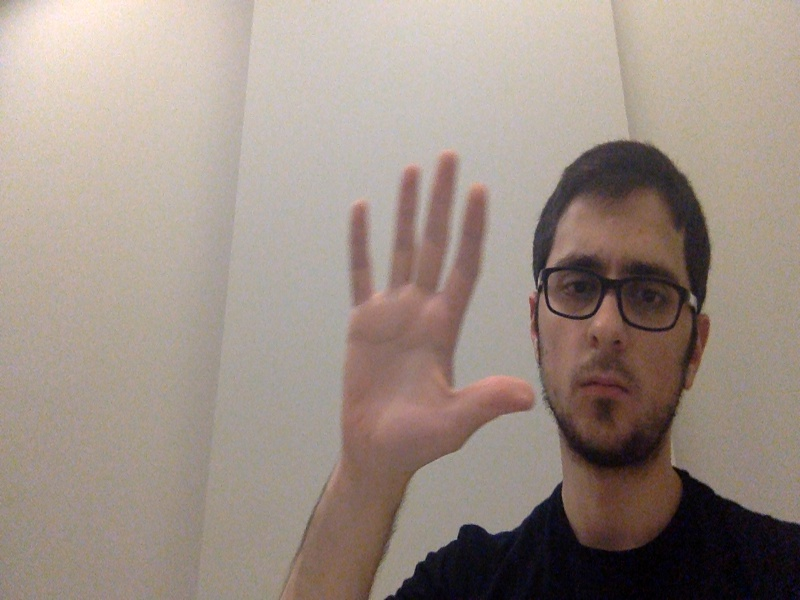5-hand: (335, 150, 539, 475)
